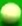white: (0, 0, 22, 26)
